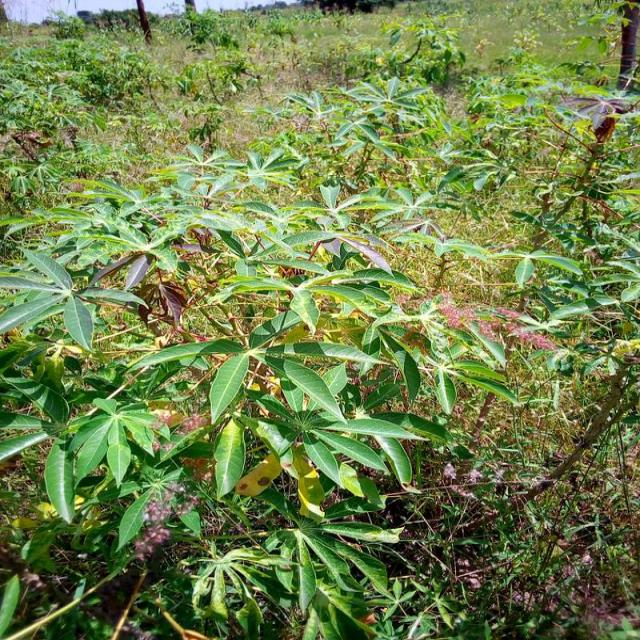cassava leaf: (208, 351, 248, 424), (213, 414, 245, 500)
